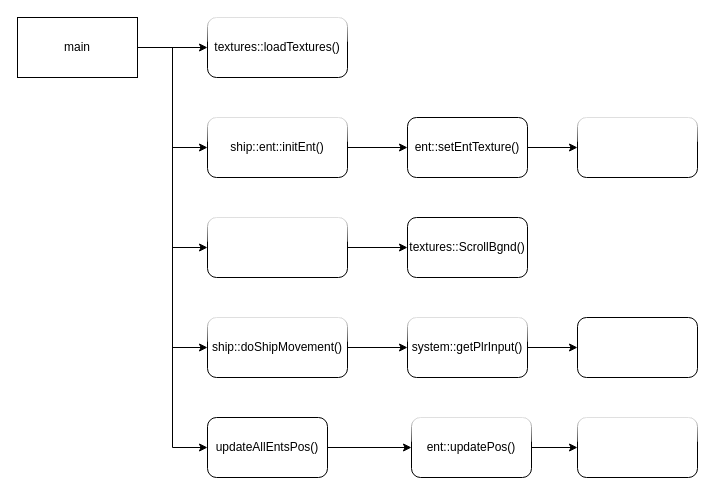
This 715x495 diagram has some shape labels left out. Each missing label, with the centre of its shape:
ent::accellEnt(): point (637, 347)
ent::moveEnt(): point (637, 447)
textures::getTexture(): point (637, 147)
texures::drawBgnd(): point (277, 247)
